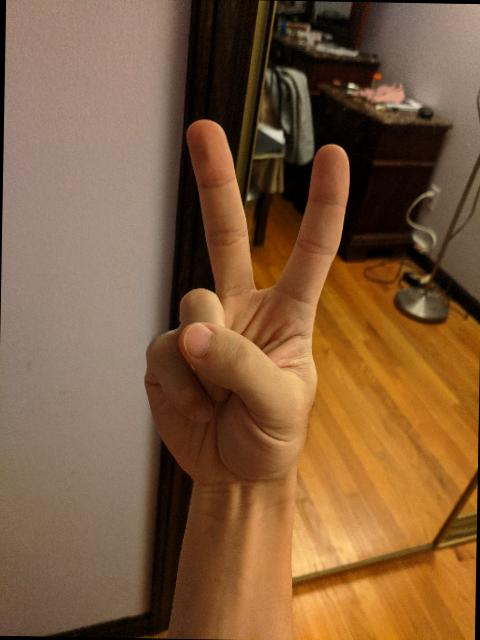V: (138, 114, 357, 494)
